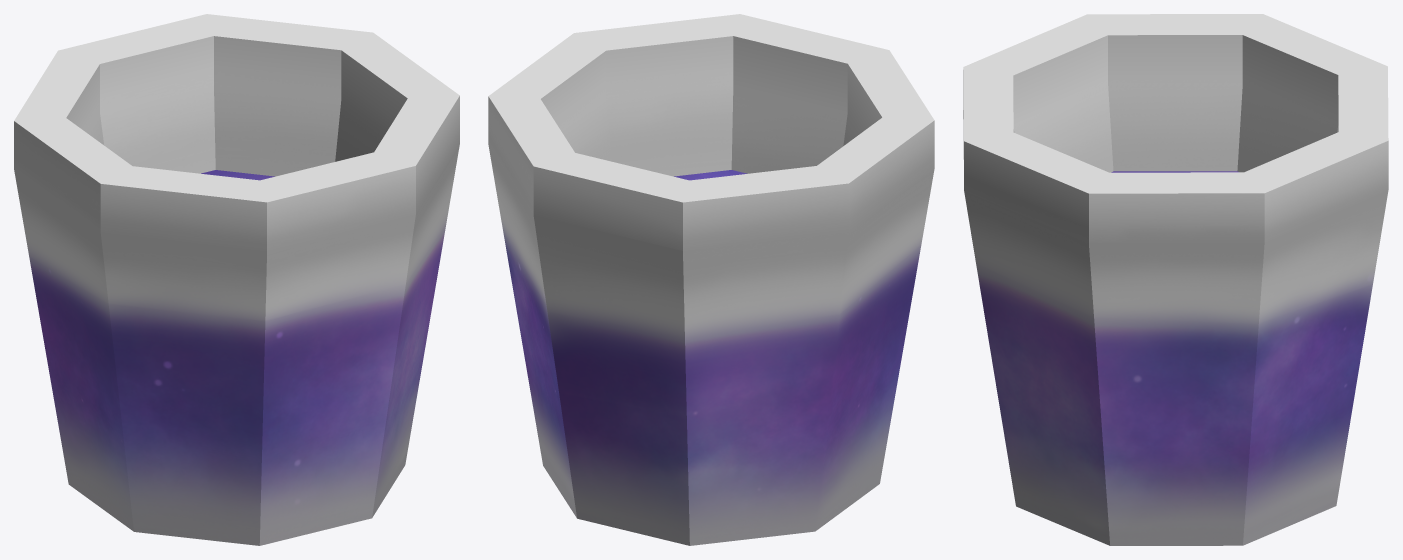
Rendered from DrinksMenu3.fbx.
The picture shows the model from 3 angles, left to right: view 1: azimuth 30°, elevation 25°; view 2: azimuth 150°, elevation 25°; view 3: azimuth 270°, elevation 25°; orthographic projection. The views are drawn at different scales.
Visible parts, largest first — view 1: pCylinder3; view 2: pCylinder3; view 3: pCylinder3.
Boxes of the visible parts, x1,y1,x2,y2 form: pCylinder3: (14,14,459,545); pCylinder3: (488,14,934,545); pCylinder3: (963,14,1388,545).
Size of the model in its own units: 1.44 by 1.4 by 1.44.
1 material, 1 textured.
